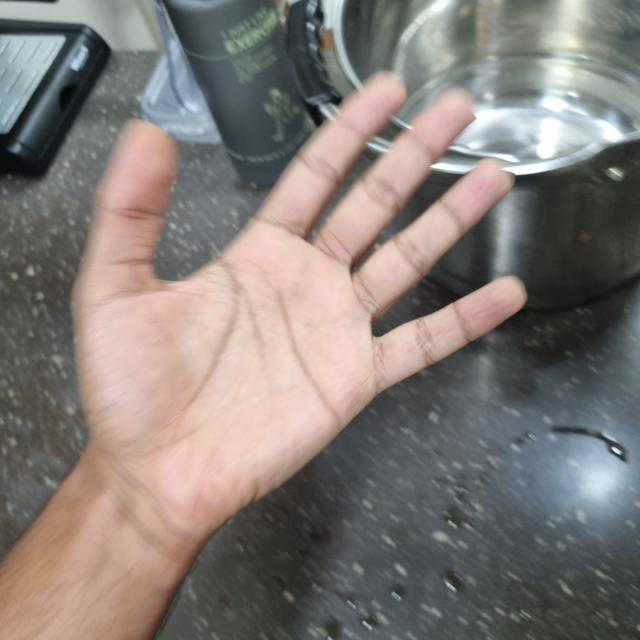Paper: (74, 76, 521, 523)
